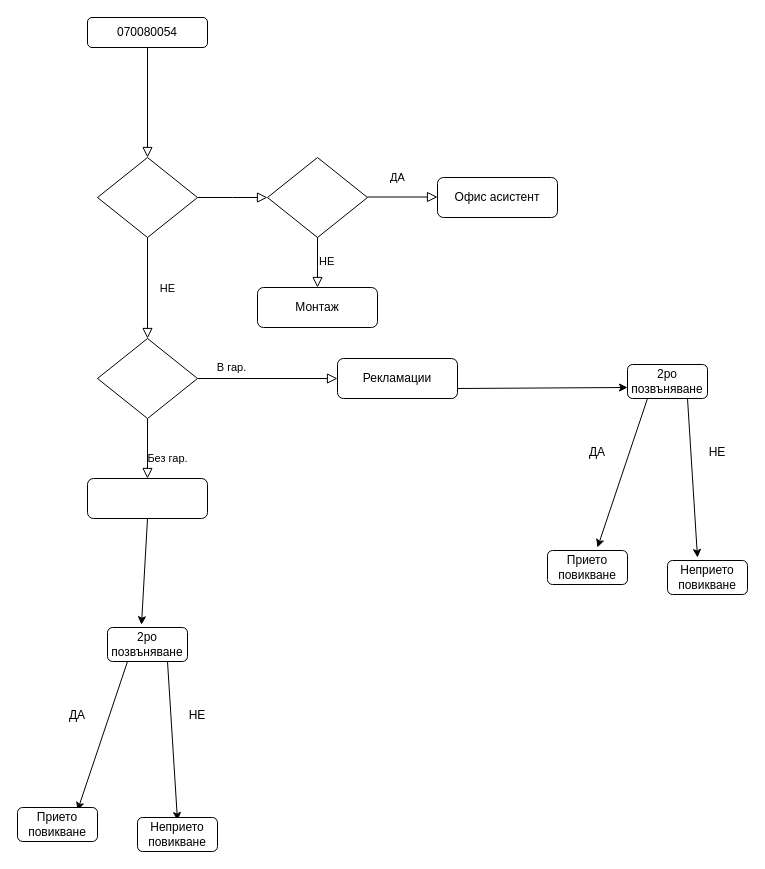
Image size: 765x869. Some labels were removed from this diagram. The centre of each missing label's shape, as x and y in pixels:
"Гласово меню" belongs at (147,197).
"Обща Информация" belongs at (317,197).
"ПУ" belongs at (147,498).
"Сервиз" belongs at (147,378).
